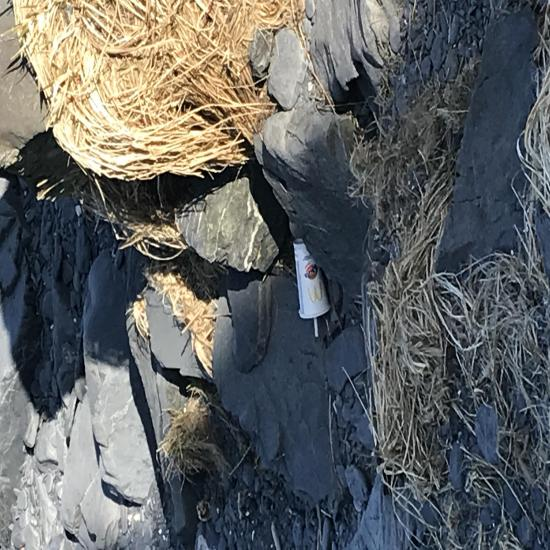Paper cup: (174, 391, 234, 441)
Plastic straw: (160, 419, 175, 424)
